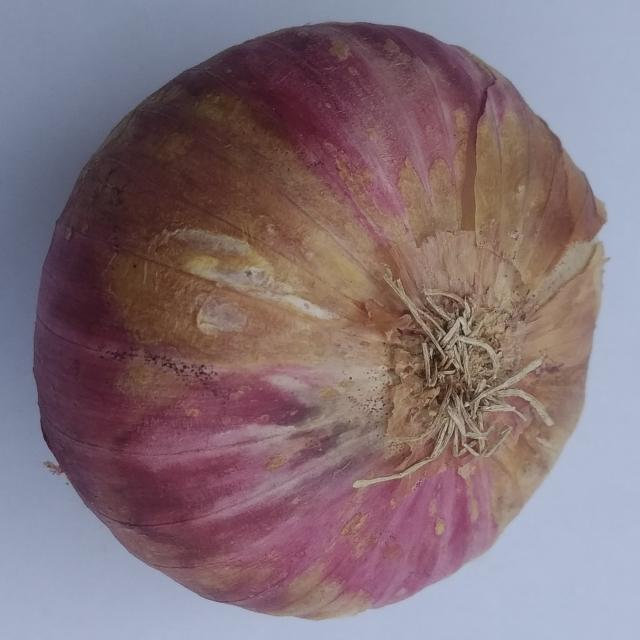onion: (31, 20, 612, 621)
